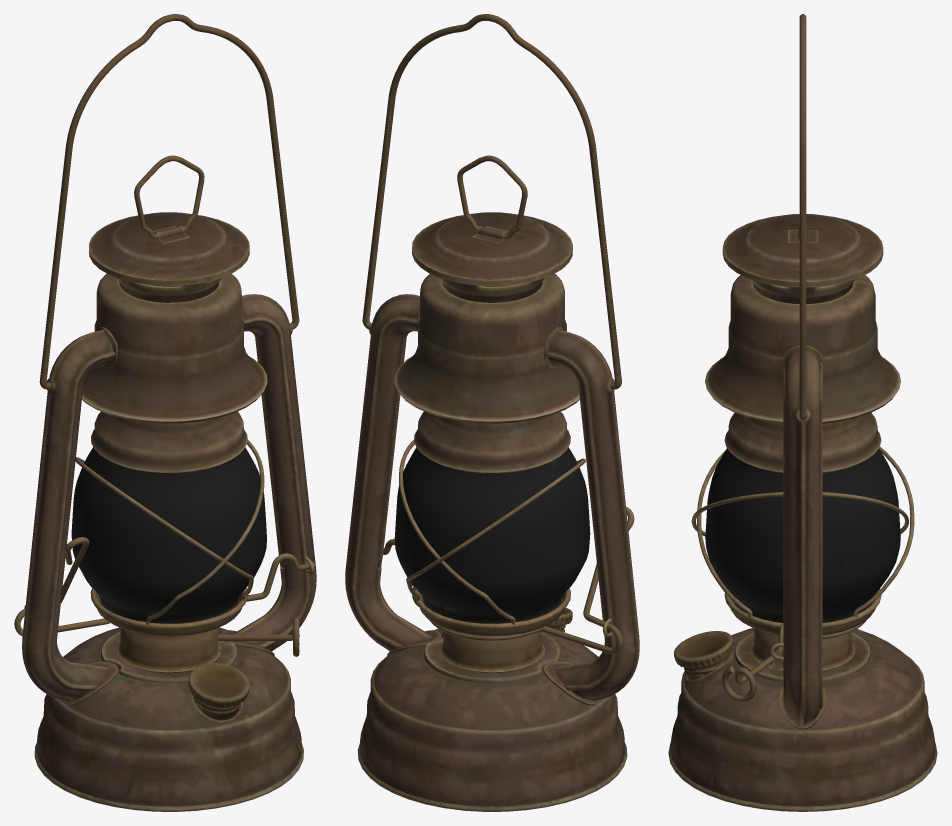
The model's file is lantern_01.glb.
3 renders of one model, left to right at view 1: azimuth 30°, elevation 25°; view 2: azimuth 150°, elevation 25°; view 3: azimuth 270°, elevation 25°, orthographic.
Parts seen in each view (by area): view 1: Lantern_01, Lantern_01_glass; view 2: Lantern_01, Lantern_01_glass; view 3: Lantern_01, Lantern_01_glass.
Boxes of the visible parts, bbox=[...] form: Lantern_01: bbox=[14, 14, 316, 811]; Lantern_01_glass: bbox=[71, 447, 266, 623]; Lantern_01: bbox=[345, 14, 639, 811]; Lantern_01_glass: bbox=[394, 447, 590, 623]; Lantern_01: bbox=[668, 14, 937, 811]; Lantern_01_glass: bbox=[705, 448, 900, 622].
Size of the model in its own units: 0.1221 by 0.2942 by 0.0972.
Materials: 2 (2 with a texture image).
